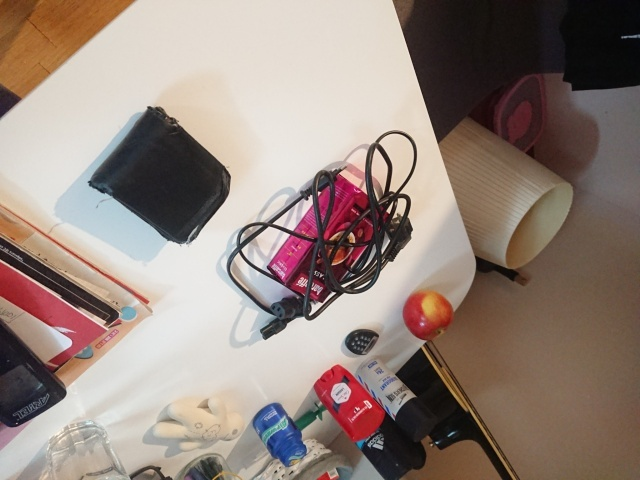Barcaffe Classic Original 225g: (265, 170, 394, 306)
